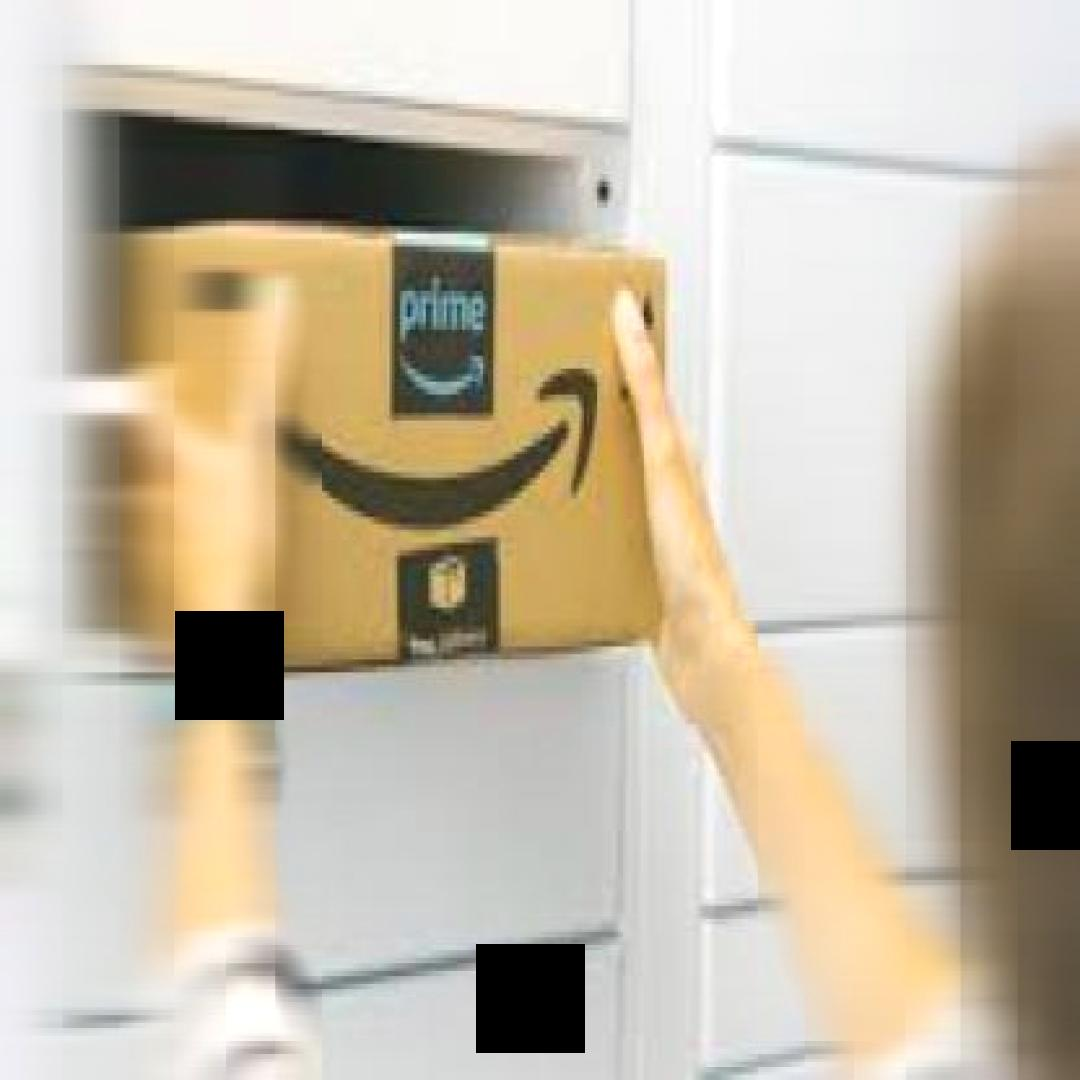package: (112, 213, 678, 688)
